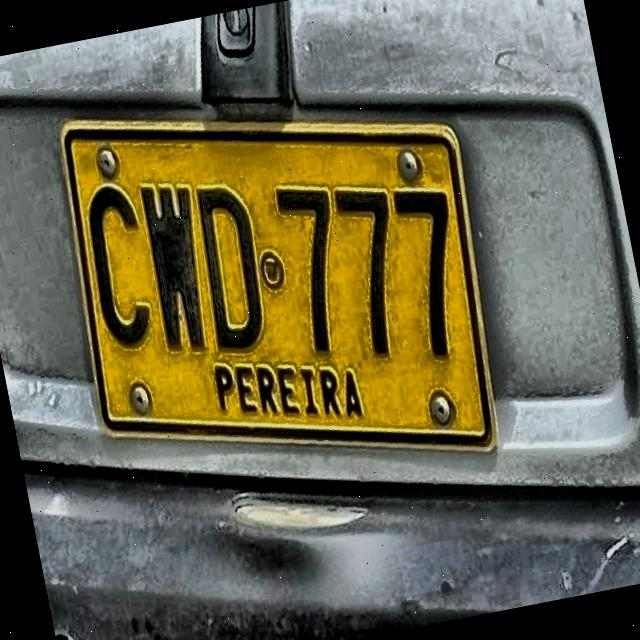7: (391, 187, 471, 365), (272, 182, 353, 357), (332, 185, 405, 362)
C: (82, 176, 161, 354)
D: (192, 183, 271, 356)
W: (134, 173, 216, 355)
